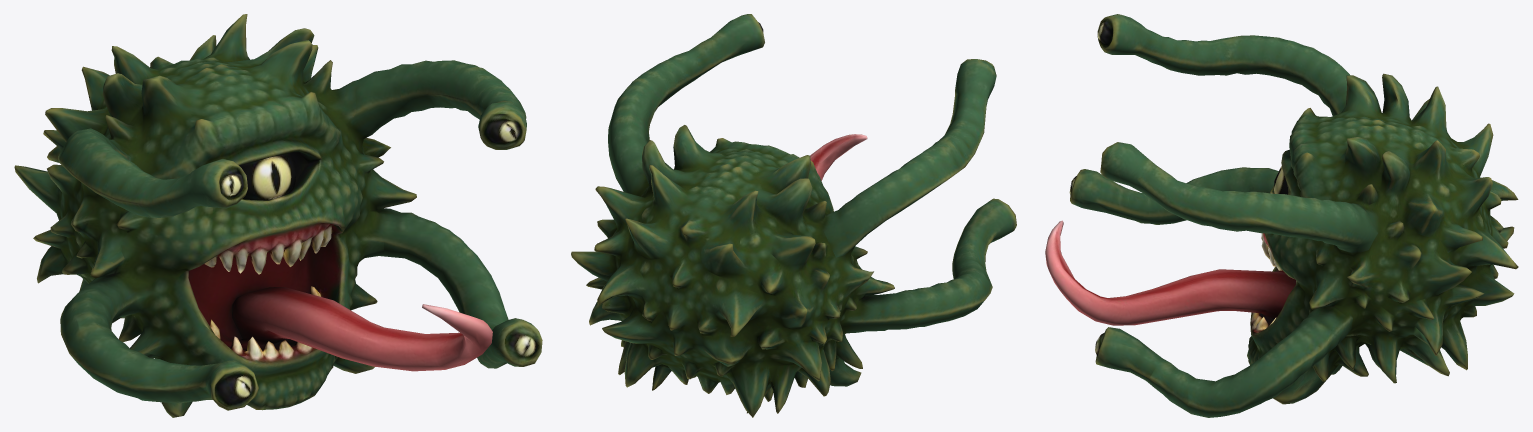
The model's file is MZ4250 - Spectator.glb.
3 renders of one model, left to right at view 1: azimuth 30°, elevation 25°; view 2: azimuth 150°, elevation 25°; view 3: azimuth 270°, elevation 25°, orthographic. The views are drawn at different scales.
Parts seen in each view (by area): view 1: bosy_low.001; view 2: bosy_low.001; view 3: bosy_low.001.
Boxes of the visible parts, bbox=[...] form: bosy_low.001: bbox=[14, 14, 542, 417]; bosy_low.001: bbox=[571, 14, 1016, 417]; bosy_low.001: bbox=[1045, 14, 1518, 417].
Bounding box in the file's own units: 10.25 × 7.88 × 11.57.
1 material, 1 textured.
